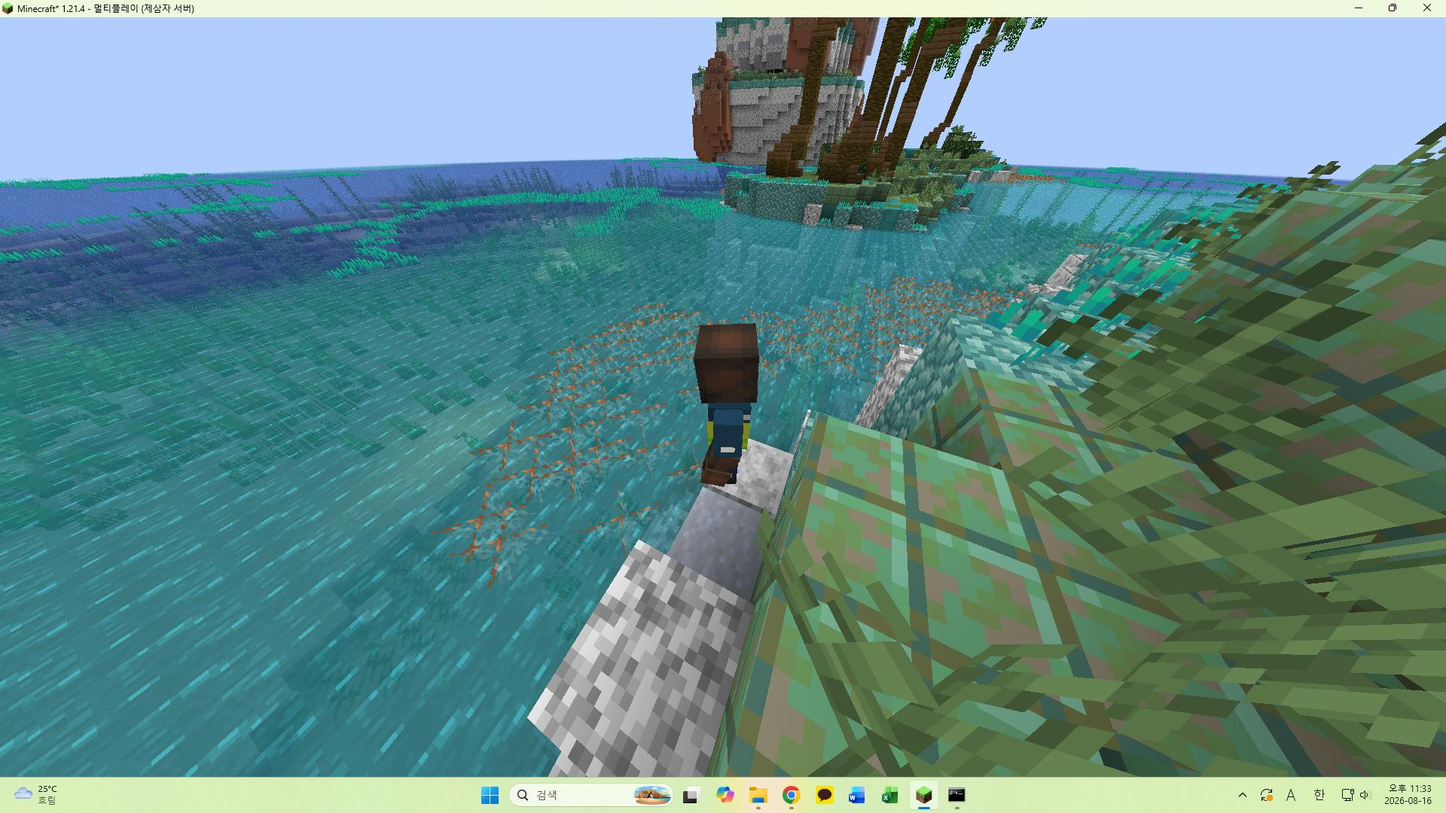Guardian: (694, 323, 787, 510)
